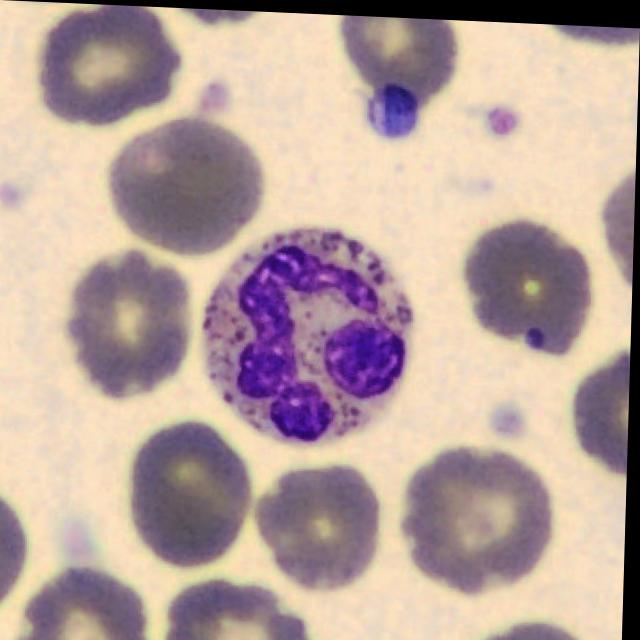Neutrofilo segmentado: (205, 225, 417, 443)
